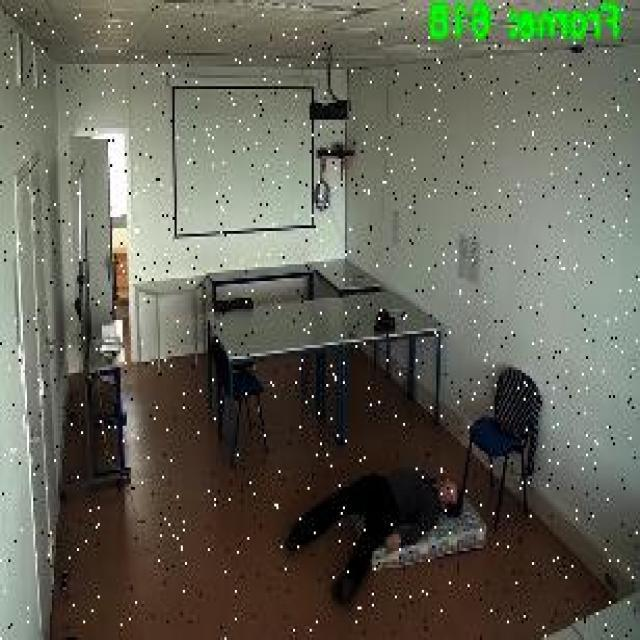fall: (280, 462, 468, 610)
